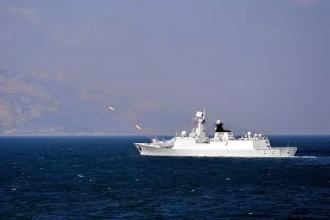warship: (133, 109, 302, 158)
